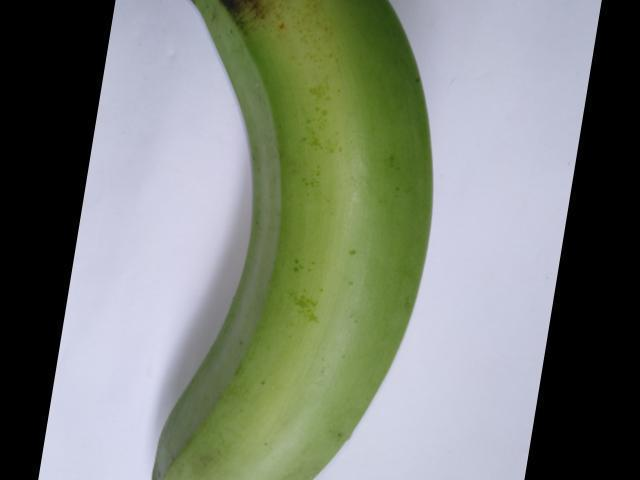freshunripe: (133, 0, 442, 479)
